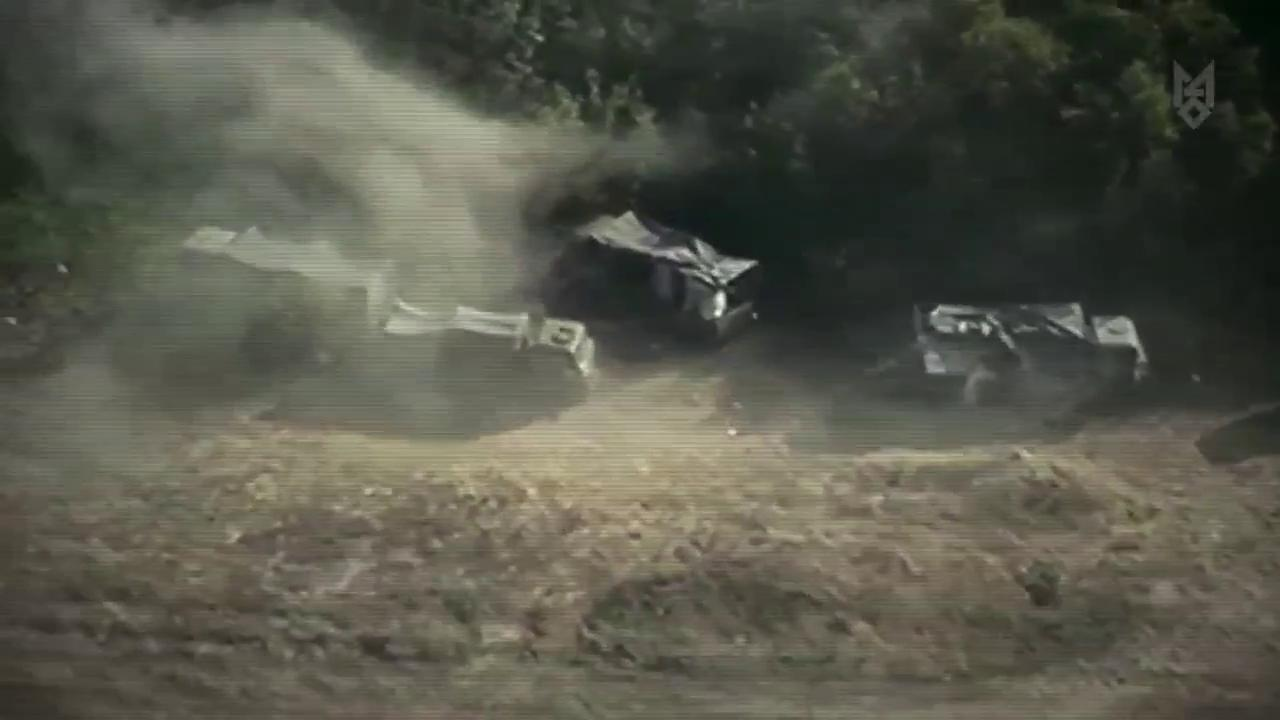tank: (900, 300, 1148, 433), (170, 228, 388, 369), (384, 290, 596, 428), (557, 212, 761, 346)
